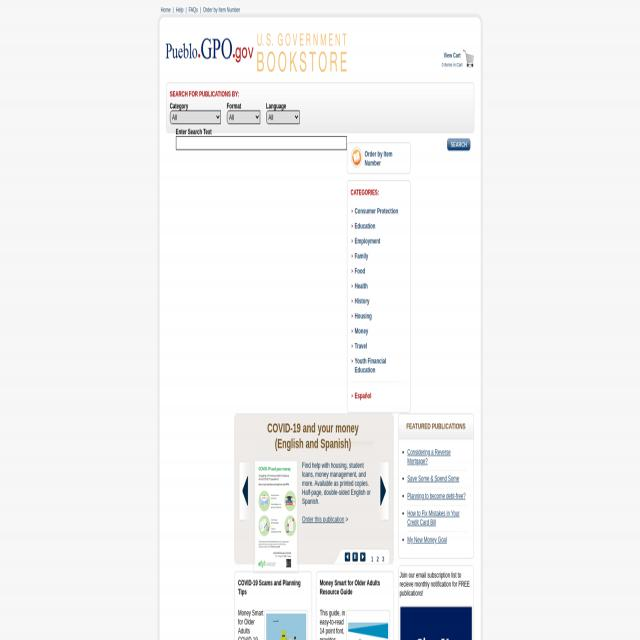button: (256, 459, 297, 571), (257, 32, 347, 72), (166, 32, 256, 72), (400, 606, 472, 640), (264, 610, 308, 640), (345, 611, 390, 640), (374, 461, 390, 521), (238, 461, 253, 521), (350, 145, 362, 168), (448, 139, 470, 150), (464, 48, 476, 68), (344, 552, 350, 561), (352, 552, 358, 561), (360, 552, 366, 561)
field: (176, 136, 347, 150), (170, 111, 220, 124), (226, 111, 260, 124), (266, 111, 300, 124)
